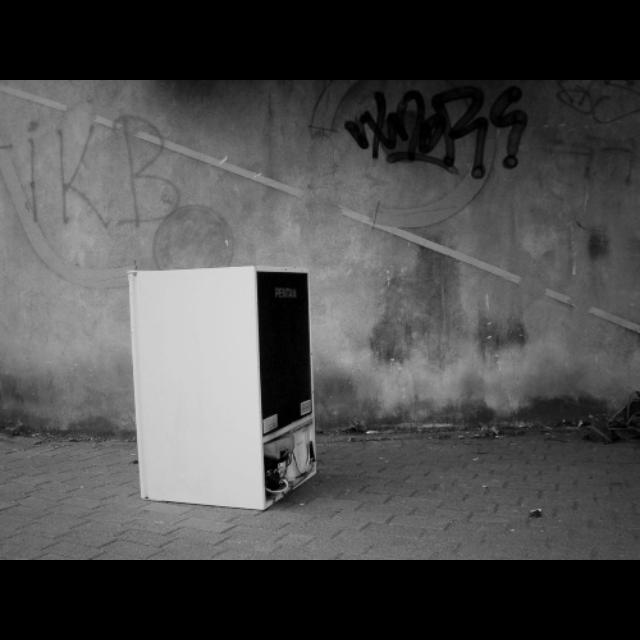Refrigerator: (128, 266, 317, 511)
